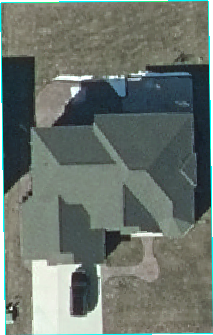house: (19, 110, 203, 267)
